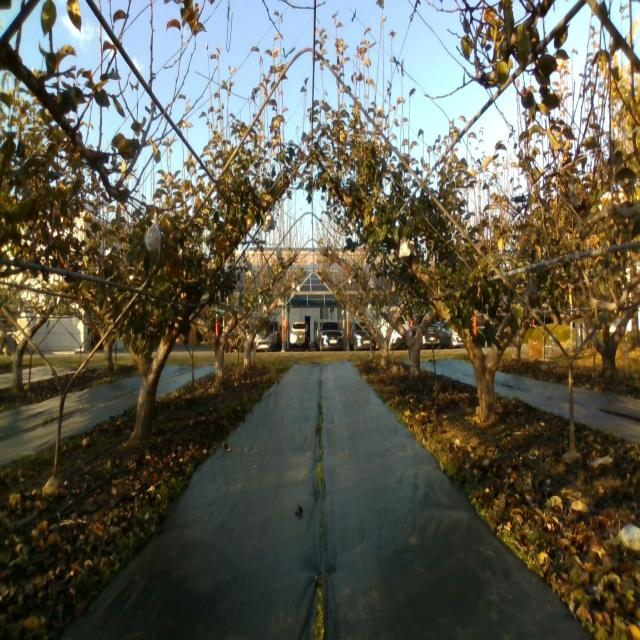pearbags: (144, 222, 160, 258), (398, 238, 411, 259)
